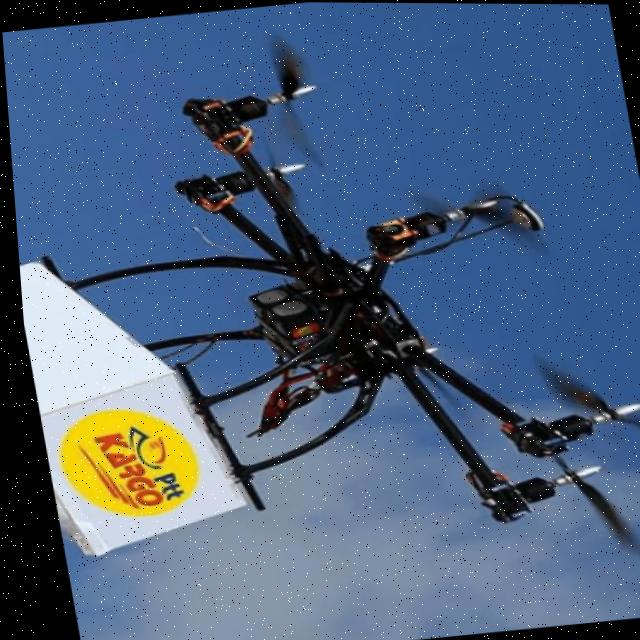drones: (149, 1, 640, 599)
